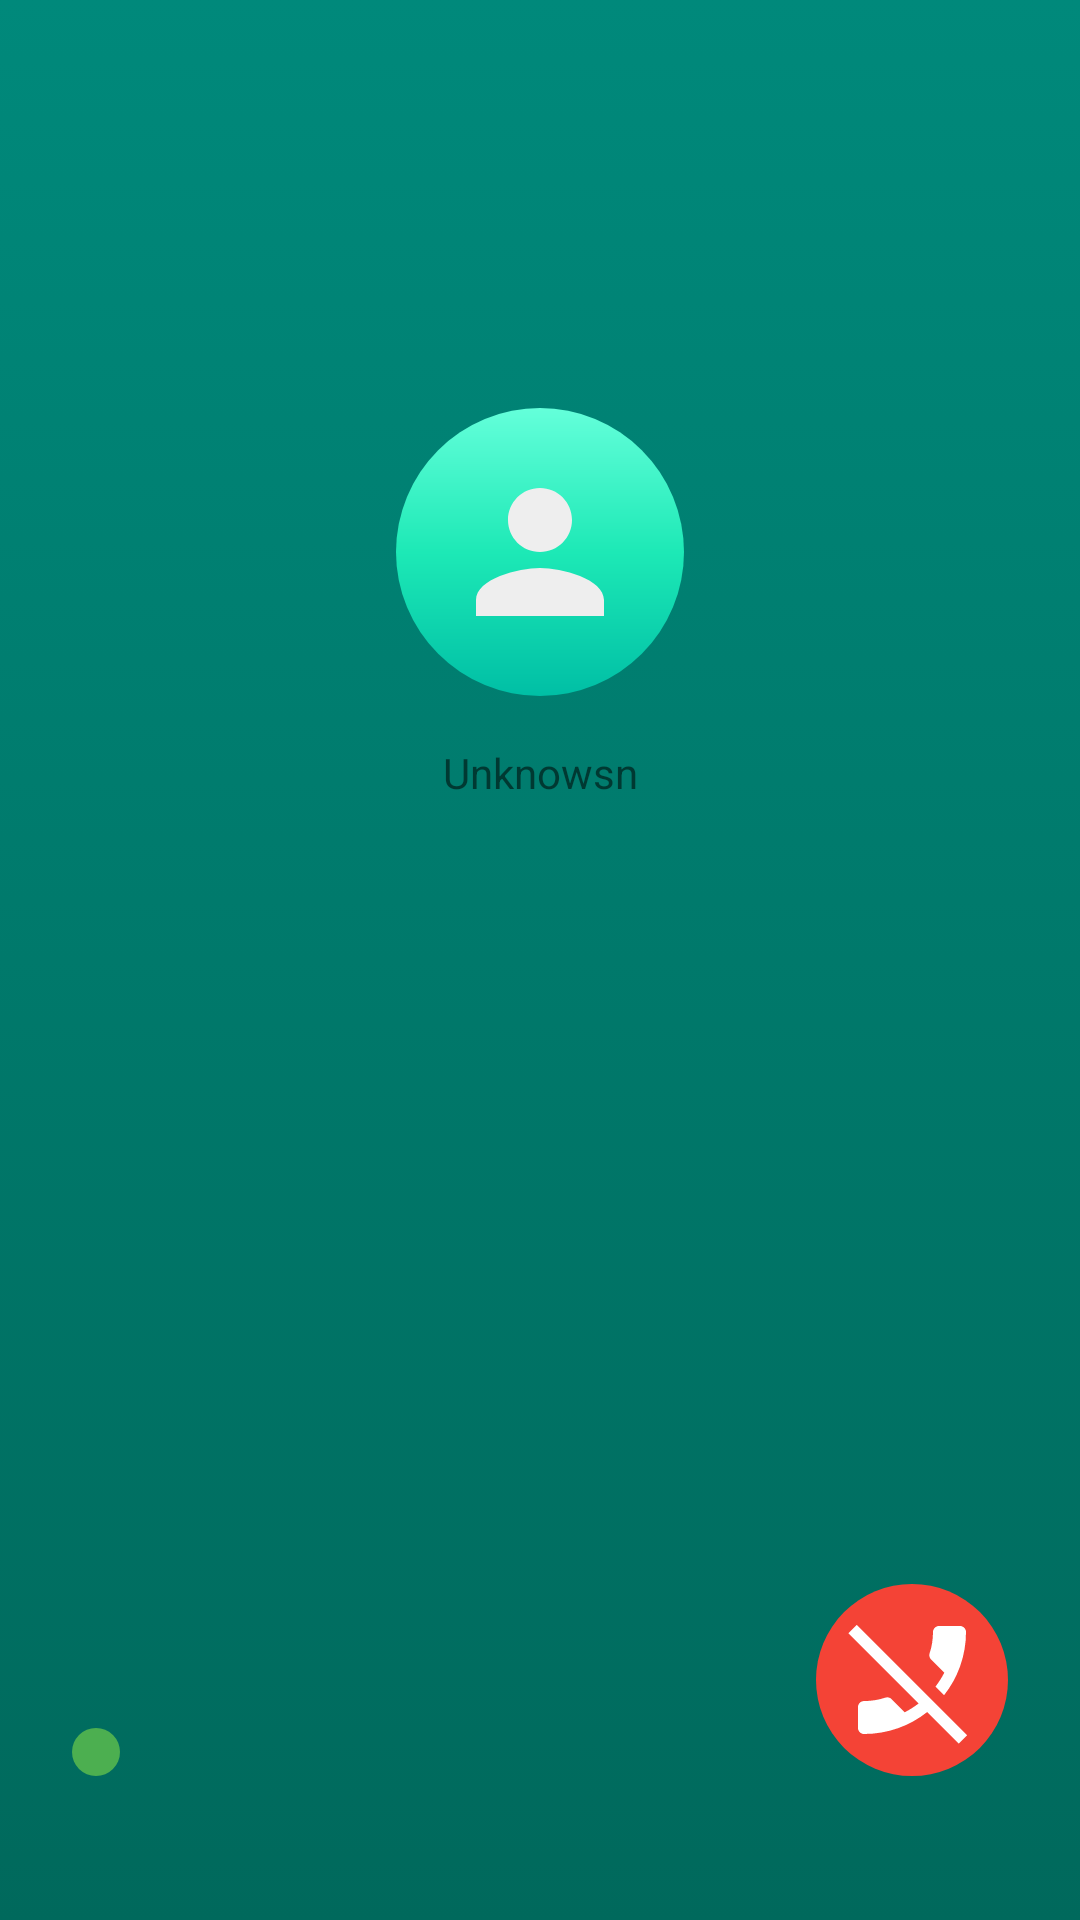

Screen size 1080×1920. Icon name, then its center in pixels as [x,y]:
Contact profile picture: [540,552]
Deny Call: [912,1680]
